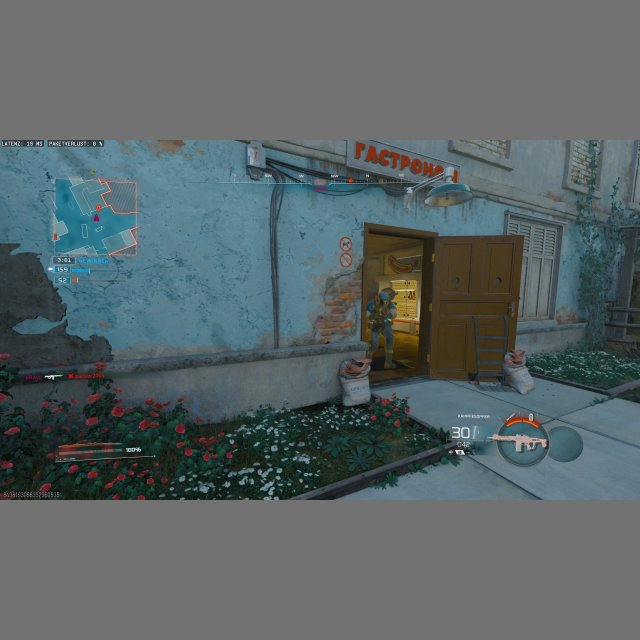head: (378, 289, 389, 304)
player: (365, 289, 399, 371)
